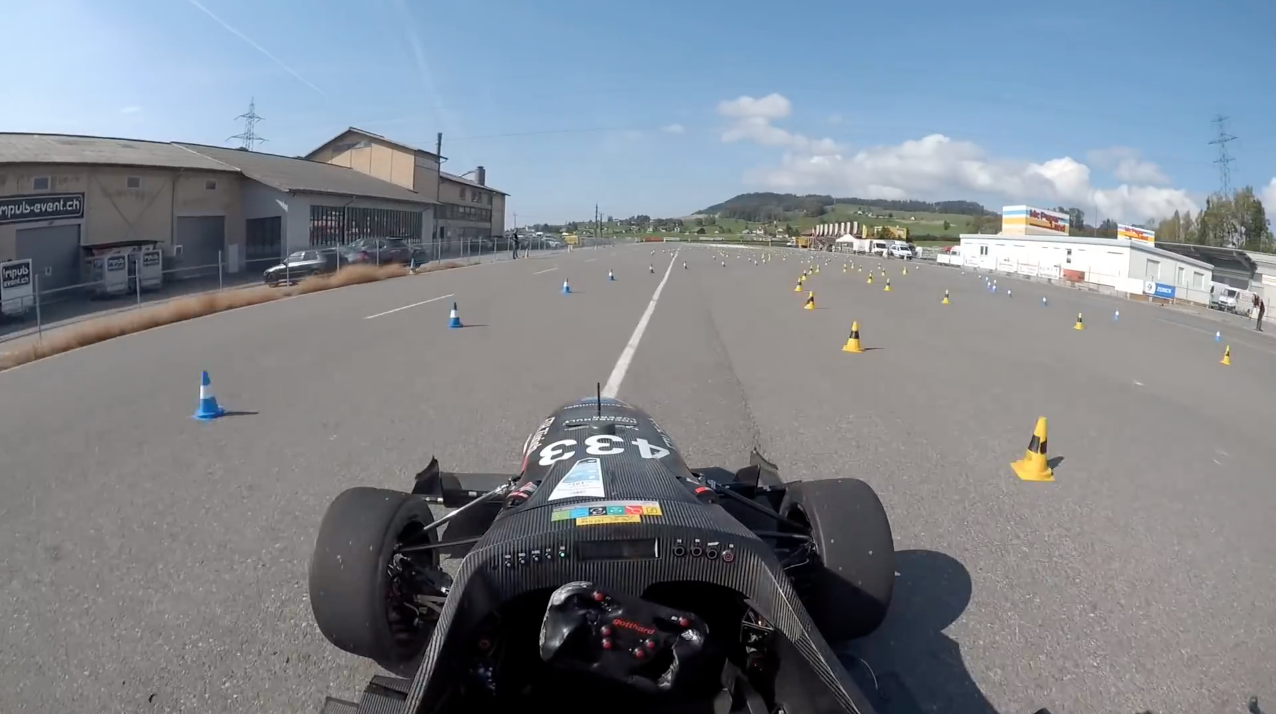lcone: (187, 368, 234, 425), (442, 298, 466, 332), (559, 274, 577, 298)
rcone: (1005, 410, 1063, 487), (842, 316, 873, 356), (798, 285, 823, 316)
